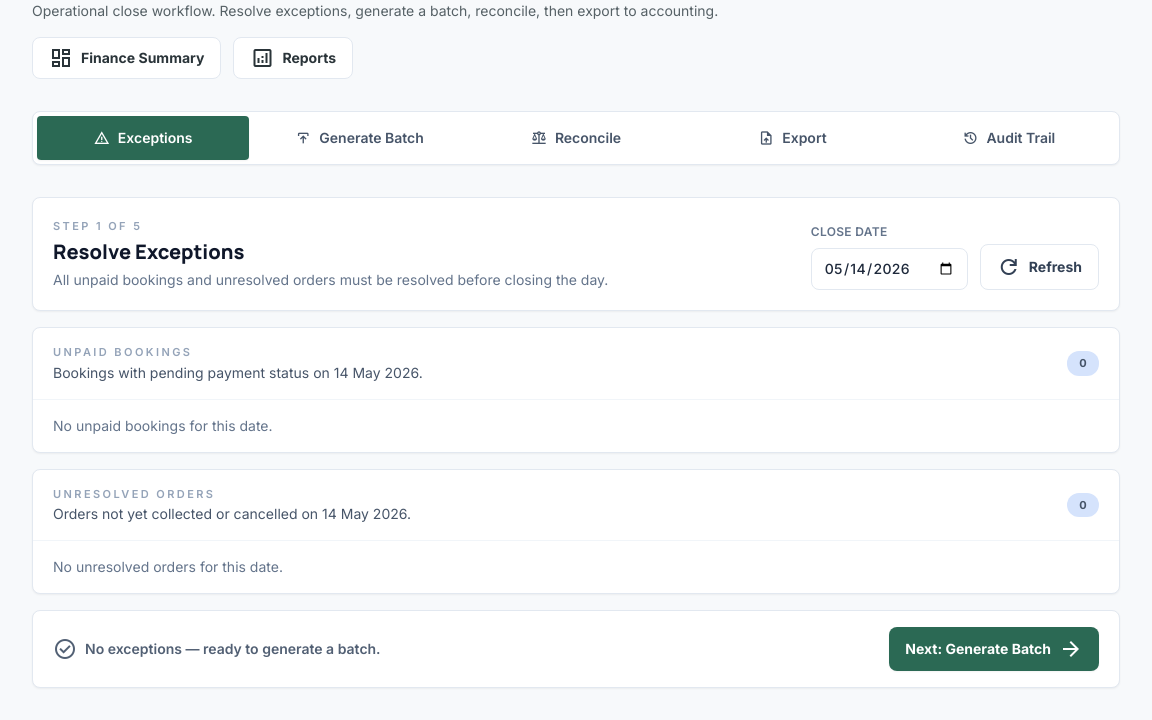
Test: AdminFinancePage - Close Day wizard › Next button is enabled and navigates to Generate Batch step when no exceptions
(page scrolled)
Click the button "Next: Generate Batch": click(994, 649) x1=889 y1=627 x2=1099 y2=671
(page scrolled)
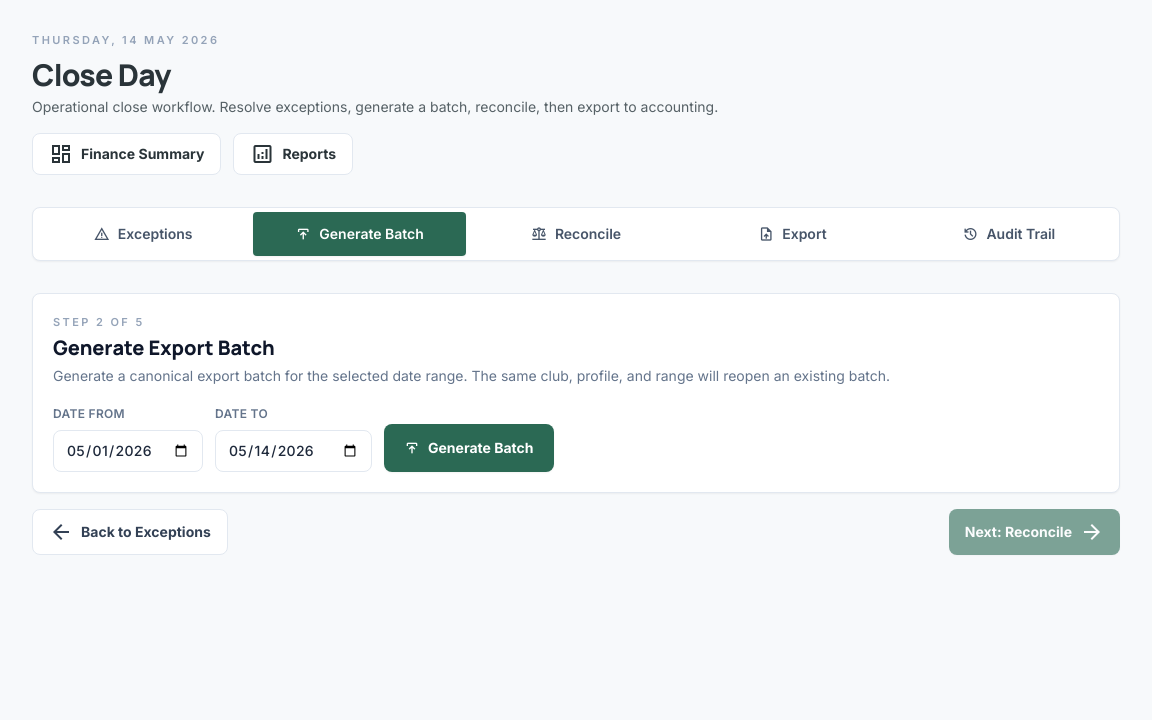
expect the heading "Generate Export Batch" is shown: met, box x1=53 y1=334 x2=275 y2=361
